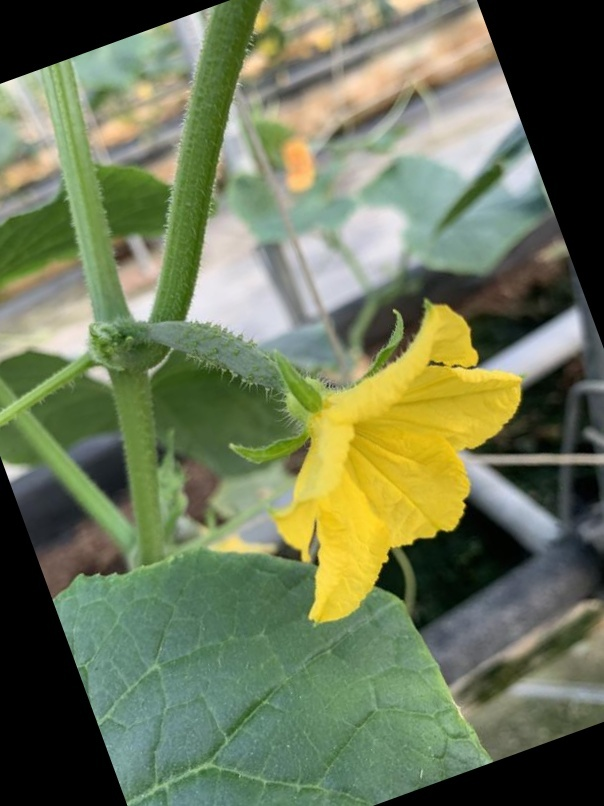flowering: (165, 271, 533, 631)
